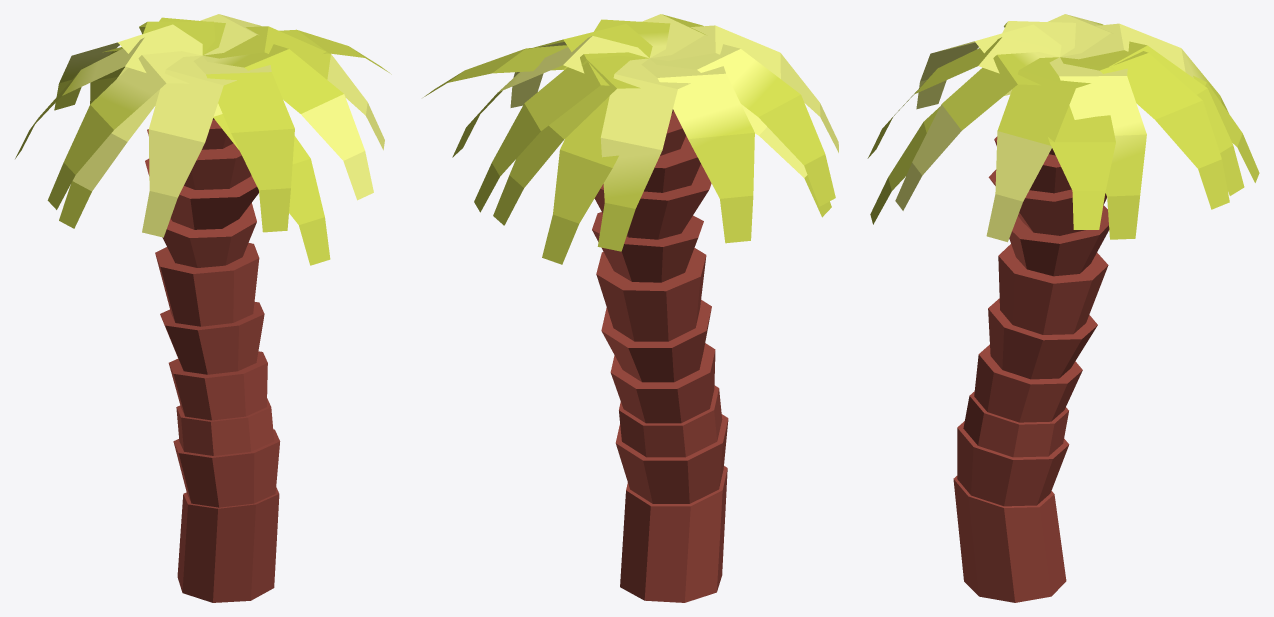
The model's file is tree.fbx.
3 views of the same model, side by side, from view 1: azimuth 30°, elevation 25°; view 2: azimuth 150°, elevation 25°; view 3: azimuth 270°, elevation 25° (orthographic). The views are drawn at different scales.
Parts seen in each view (by area): view 1: Cylinder; view 2: Cylinder; view 3: Cylinder.
Boxes of the visible parts, <box> form: Cylinder: <box>15,14,391,602</box>; Cylinder: <box>423,14,838,602</box>; Cylinder: <box>867,14,1259,602</box>.
Size of the model in its own units: 826 by 1144 by 765.
2 materials, 2 textured.
